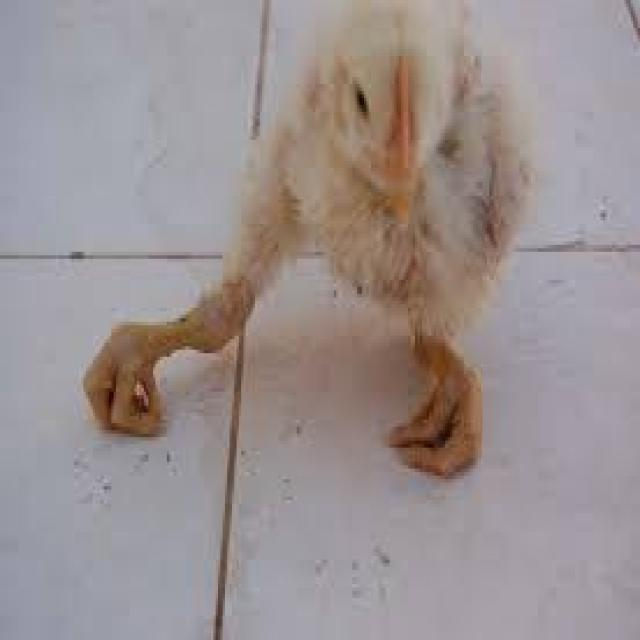abnormal chicken: (66, 0, 537, 488)
